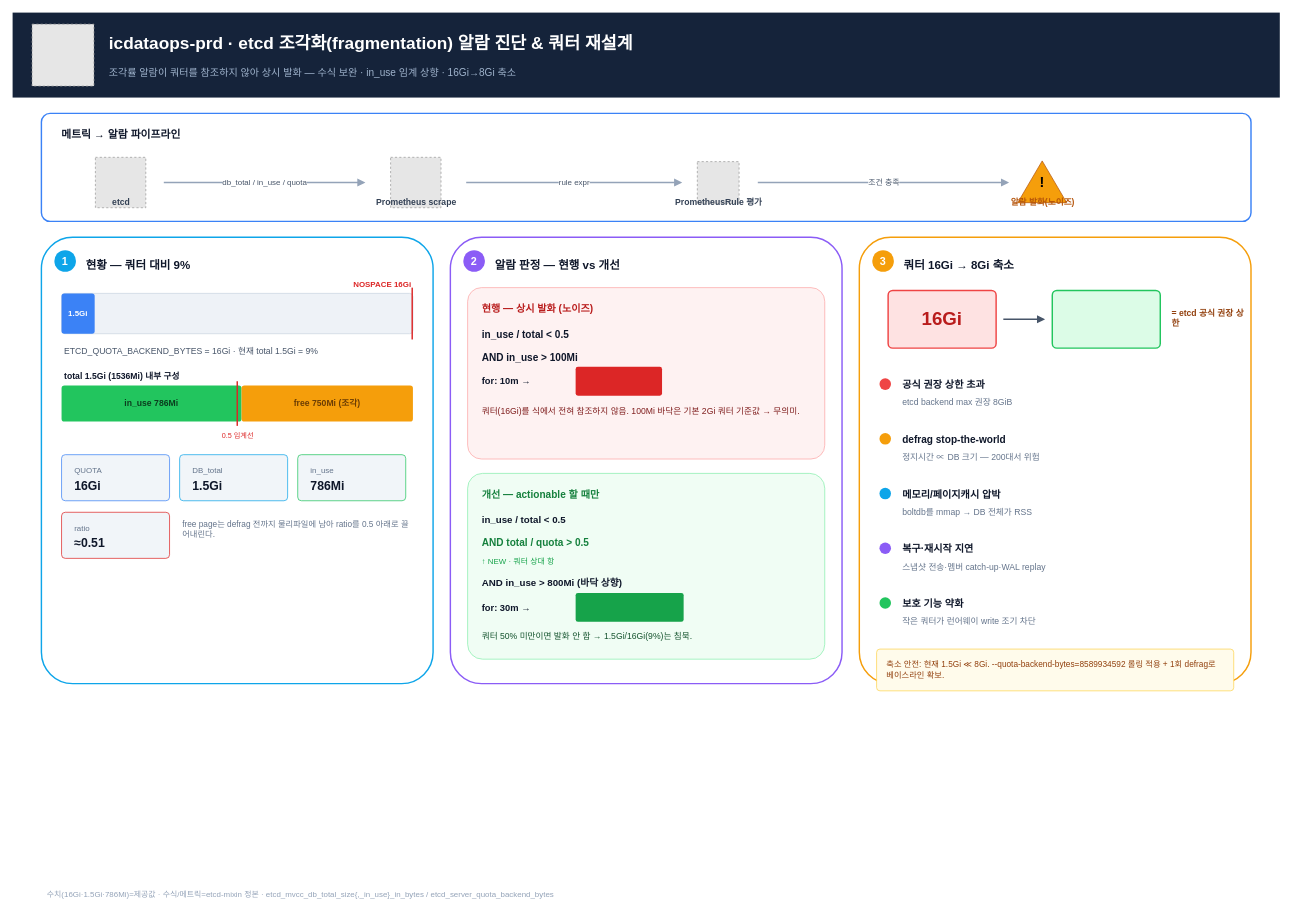
Some shapes in this 1292 by 914 pixel diagram are drawn without their labels. Grey dashed boxes stand in for pictures. Here are the shapes that lost their labels. From the top down, the centre of each, then its label:
At point (1106, 318): "8Gi".
At point (618, 380): "상시 FIRE".
At point (629, 607): "actionable".
